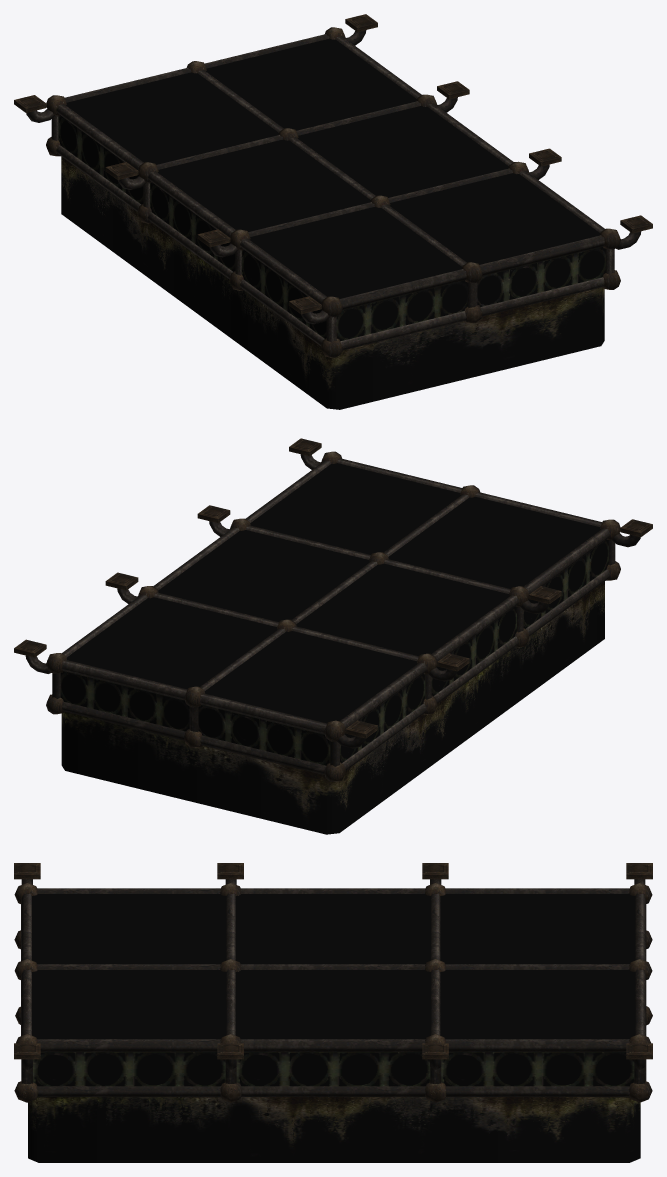
The model's file is catwalk_factory_3m_dirty.DAE.
3 renders of one model, top to bottom at view 1: azimuth 30°, elevation 25°; view 2: azimuth 150°, elevation 25°; view 3: azimuth 270°, elevation 25°, orthographic. The views are drawn at different scales.
Parts seen in each view (by area): view 1: Object120, Box003, Object117; view 2: Object120, Box003, Object117; view 3: Object120, Box003, Object117.
Part boxes in pixels (bbox=[...]): Object120: bbox=[58, 38, 605, 341]; Box003: bbox=[61, 157, 604, 409]; Object117: bbox=[14, 14, 652, 357]; Object120: bbox=[60, 463, 608, 765]; Box003: bbox=[61, 581, 604, 834]; Object117: bbox=[14, 438, 652, 781]; Object120: bbox=[32, 894, 635, 1086]; Box003: bbox=[28, 1097, 640, 1162]; Object117: bbox=[14, 863, 652, 1102].
Size of the model in its own units: 2.13 by 0.6666 by 3.
